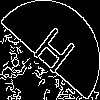H: (25, 24, 78, 84)
